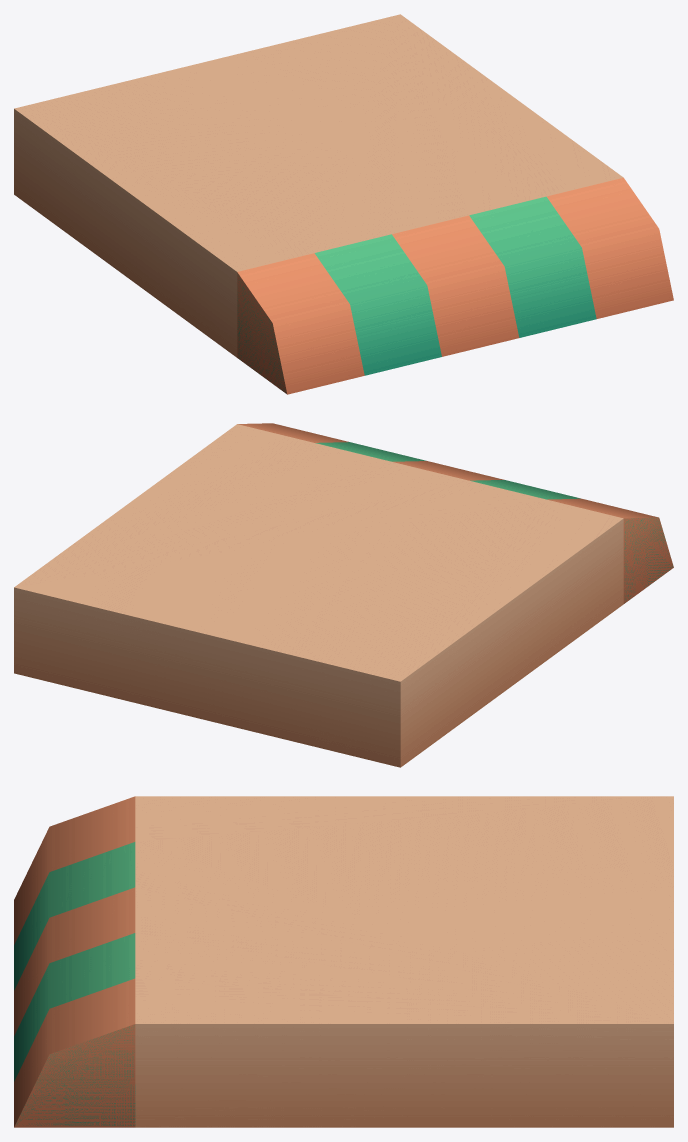
3 renders of one model, top to bottom at view 1: azimuth 30°, elevation 25°; view 2: azimuth 150°, elevation 25°; view 3: azimuth 270°, elevation 25°, orthographic. The views are drawn at different scales.
Visible parts, largest first — view 1: roof-flat-awning-c; view 2: roof-flat-awning-c; view 3: roof-flat-awning-c.
Part boxes in pixels (x1,y1,x2,y2): roof-flat-awning-c: (14,14,673,394); roof-flat-awning-c: (14,423,673,767); roof-flat-awning-c: (14,796,673,1127).
Size of the model in its own units: 1 by 0.2125 by 1.23.
1 material, 1 textured.
